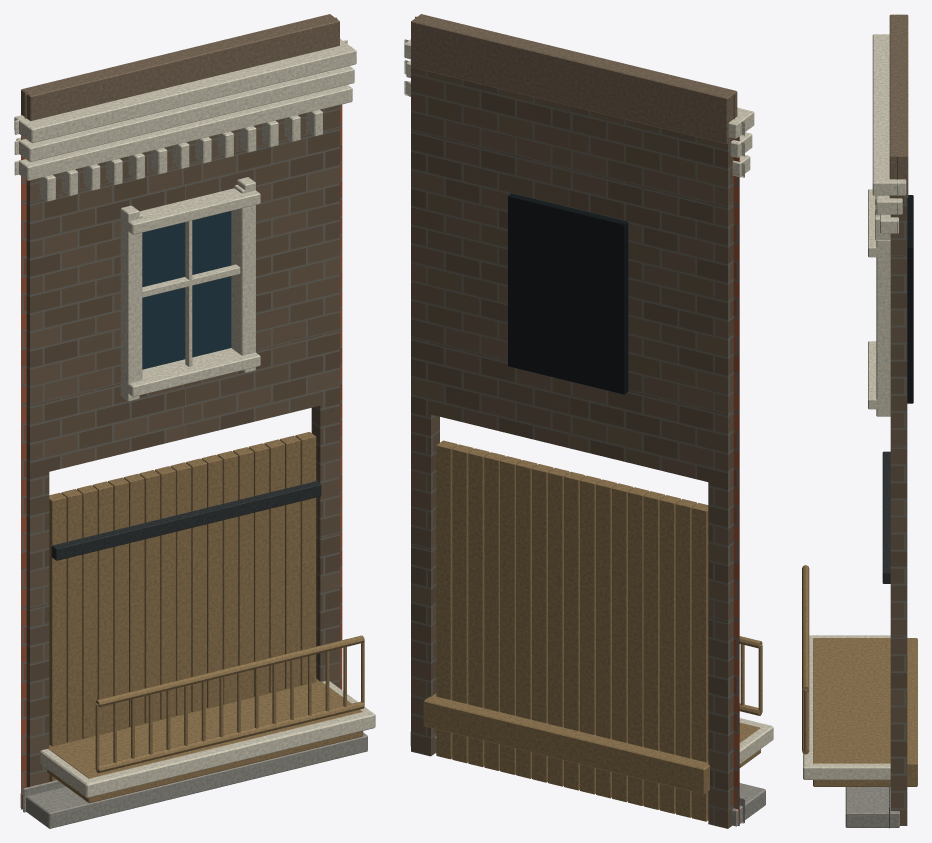
Rendered from WHSE18_lod1.glb.
3 views of the same model, side by side, from view 1: azimuth 30°, elevation 25°; view 2: azimuth 150°, elevation 25°; view 3: azimuth 270°, elevation 25° (orthographic). The views are drawn at different scales.
Visible parts, largest first — view 1: WHSE18_FRONT_LOD1; view 2: WHSE18_FRONT_LOD1; view 3: WHSE18_FRONT_LOD1.
Boxes of the visible parts, <box> form: WHSE18_FRONT_LOD1: <box>14,14,375,828</box>; WHSE18_FRONT_LOD1: <box>404,14,773,828</box>; WHSE18_FRONT_LOD1: <box>802,14,917,828</box>.
Bounding box in the file's own units: 3.44 × 7.05 × 1.1.
10 materials, 8 textured.
